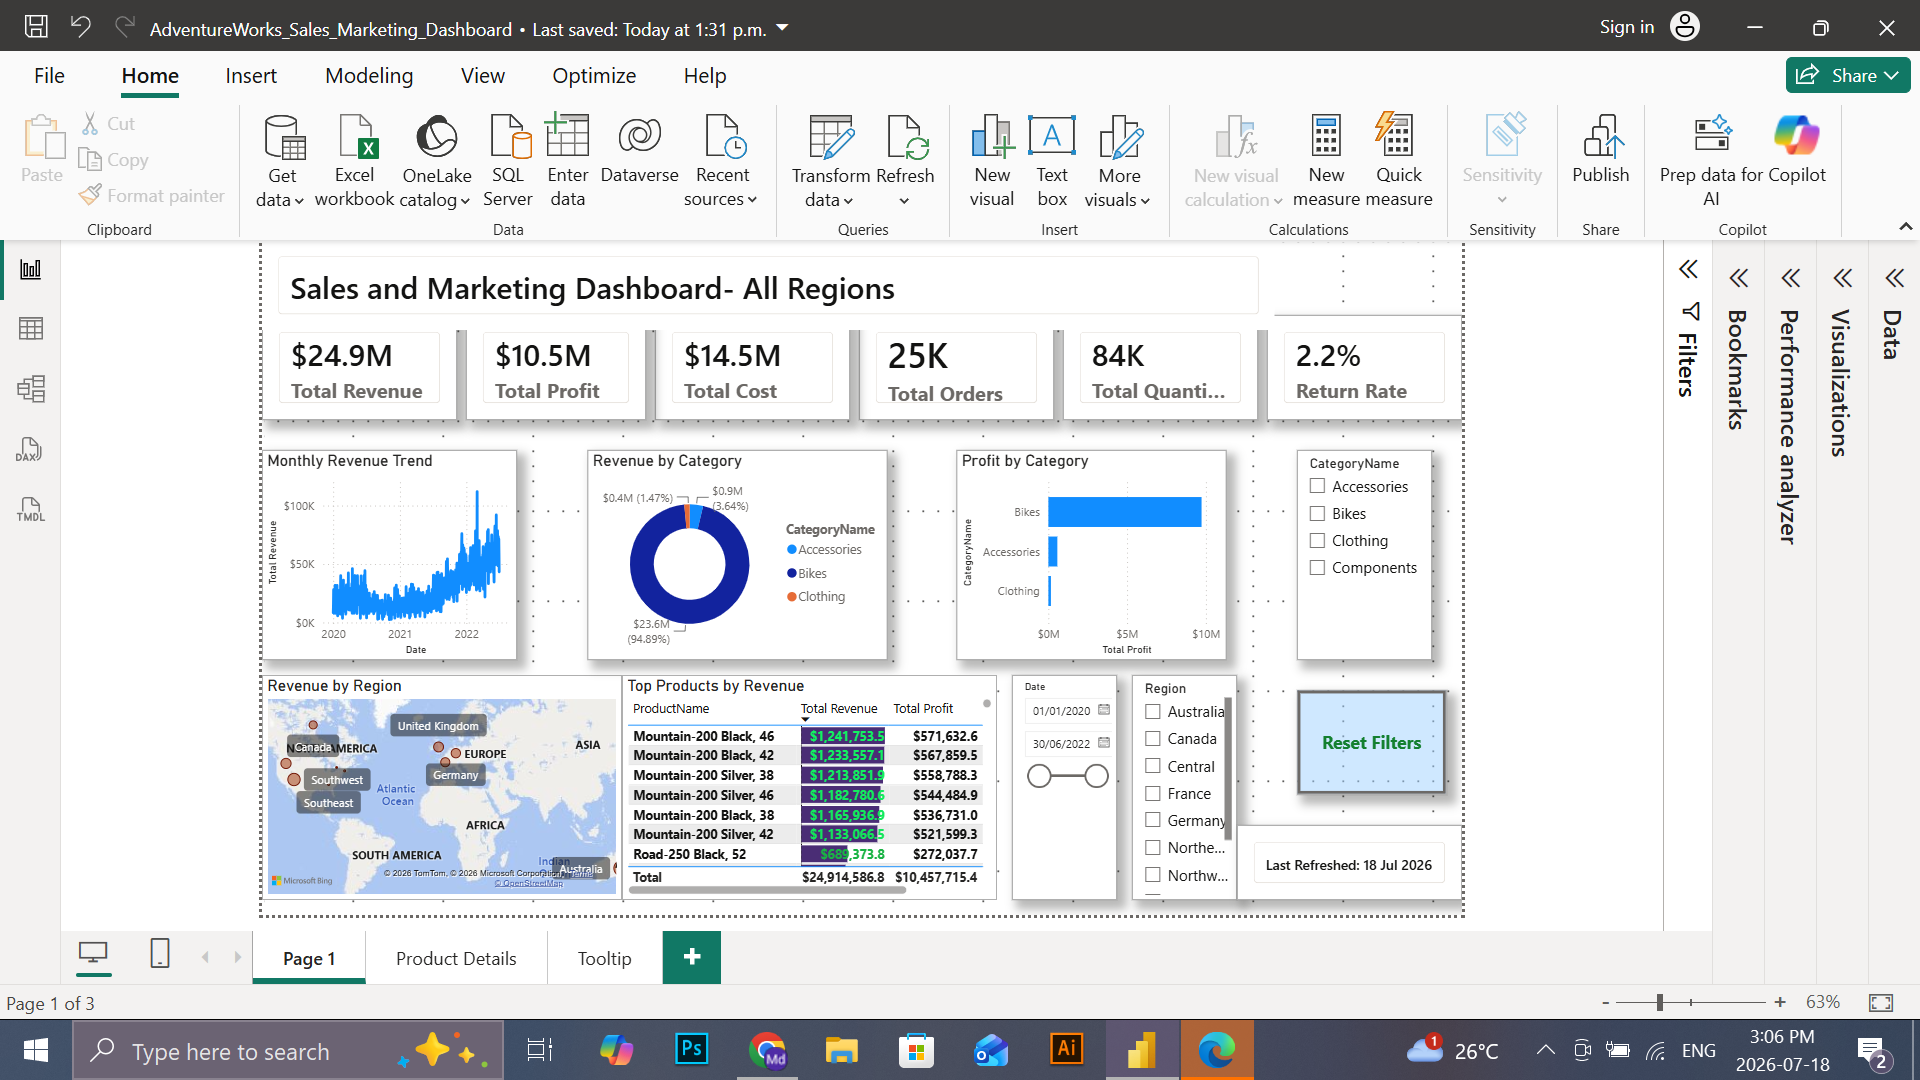

The page's visual inventory and layout, read from the dashboard file:
{"tool":"powerbi","page":{"name":"Page 1","canvas":[1280,720],"ordinal":0},"visuals":[{"type":"cardVisual","fields":{"Data":["Calendar.Total Orders"]},"box":[636.8,80,208,112],"z":0},{"type":"cardVisual","fields":{"Data":["Calendar.Total Quantity Sold"]},"box":[854.4,80,208,112],"z":1000},{"type":"cardVisual","fields":{"Data":["Calendar.Total Revenue"]},"box":[0,80,208,112],"z":2000},{"type":"cardVisual","fields":{"Data":["Calendar.Total Cost"]},"box":[419.2,80,208,112],"z":3000},{"type":"cardVisual","fields":{"Data":["Calendar.Total Profit"]},"box":[217.6,80,192,112],"z":4000},{"type":"cardVisual","fields":{"Data":["Calendar.Return Rate"]},"box":[1072,80,208,112],"z":5000},{"type":"lineChart","title":"Monthly Revenue Trend","fields":{"Category":["Calendar.Date"],"Y":["Calendar.Total Revenue"]},"box":[0,224,272,224],"z":6000},{"type":"clusteredBarChart","title":"Profit by Category","fields":{"Category":["Product Categories.CategoryName"],"Y":["Measures-Table.Total Profit"]},"box":[741.3,224,288,224],"z":7000},{"type":"map","title":"Revenue by Region","fields":{"Category":["Territory.Region"],"Size":["Calendar.Total Revenue"]},"box":[0,464,384,240],"z":8000},{"type":"donutChart","title":"Revenue by Category","fields":{"Series":["Product Categories.CategoryName"],"Y":["Calendar.Total Revenue"]},"box":[346.7,224,320,224],"z":9000},{"type":"cardVisual","fields":{"Data":["Calendar.Dashboard"]},"box":[0,0,1080,96],"z":10000},{"type":"tableEx","title":"Top Products by Revenue","fields":{"Values":["Product.ProductName","Calendar.Total Revenue","Calendar.Total Profit","Calendar.Return Quantity"]},"box":[384,464,400,240],"z":11000},{"type":"slicer","fields":{"Values":["Calendar.Date"]},"box":[800,464,112,240],"z":12000},{"type":"slicer","fields":{"Values":["Territory.Region"]},"box":[928,464,112,240],"z":13000},{"type":"slicer","fields":{"Values":["Product Categories.CategoryName"]},"box":[1104,224,144,224],"z":14000},{"type":"cardVisual","fields":{"Data":["Calendar.Last Refresh"]},"box":[1040,624,240,80],"z":15000},{"type":"actionButton","box":[1104,480,160,112],"z":15001}]}

Visuals, with their boxes on the page's 1280x720 design canvas (x1, y1, x2, y2). These are canvas units, not pixel positions in the 1920x1080 screenshot, which may show the page scaled, cropped or inside an application window:
cardVisual - Calendar.Total Orders: {"left": 637, "top": 80, "right": 845, "bottom": 192}
cardVisual - Calendar.Total Quantity Sold: {"left": 854, "top": 80, "right": 1062, "bottom": 192}
cardVisual - Calendar.Total Revenue: {"left": 0, "top": 80, "right": 208, "bottom": 192}
cardVisual - Calendar.Total Cost: {"left": 419, "top": 80, "right": 627, "bottom": 192}
cardVisual - Calendar.Total Profit: {"left": 218, "top": 80, "right": 410, "bottom": 192}
cardVisual - Calendar.Return Rate: {"left": 1072, "top": 80, "right": 1280, "bottom": 192}
"Monthly Revenue Trend" lineChart: {"left": 0, "top": 224, "right": 272, "bottom": 448}
"Profit by Category" clusteredBarChart: {"left": 741, "top": 224, "right": 1029, "bottom": 448}
"Revenue by Region" map: {"left": 0, "top": 464, "right": 384, "bottom": 704}
"Revenue by Category" donutChart: {"left": 347, "top": 224, "right": 667, "bottom": 448}
cardVisual - Calendar.Dashboard: {"left": 0, "top": 0, "right": 1080, "bottom": 96}
"Top Products by Revenue" tableEx: {"left": 384, "top": 464, "right": 784, "bottom": 704}
slicer - Calendar.Date: {"left": 800, "top": 464, "right": 912, "bottom": 704}
slicer - Territory.Region: {"left": 928, "top": 464, "right": 1040, "bottom": 704}
slicer - Product Categories.CategoryName: {"left": 1104, "top": 224, "right": 1248, "bottom": 448}
cardVisual - Calendar.Last Refresh: {"left": 1040, "top": 624, "right": 1280, "bottom": 704}
actionButton: {"left": 1104, "top": 480, "right": 1264, "bottom": 592}
